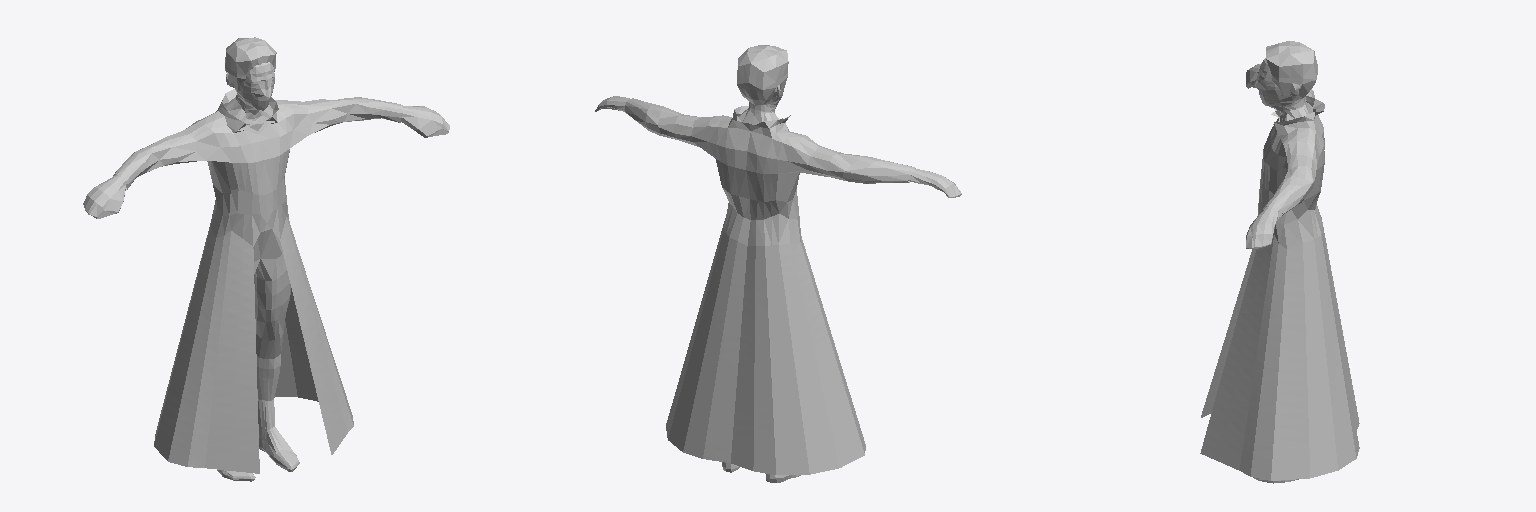
File: dresden-low-poly-4-texturing.obj
3 renders of one model, left to right at view 1: azimuth 30°, elevation 25°; view 2: azimuth 150°, elevation 25°; view 3: azimuth 270°, elevation 25°, orthographic.
Parts seen in each view (by area): view 1: Cube.002_Cube.001; view 2: Cube.002_Cube.001; view 3: Cube.002_Cube.001.
Part boxes in pixels (bbox=[...]): Cube.002_Cube.001: bbox=[83, 37, 449, 481]; Cube.002_Cube.001: bbox=[595, 45, 961, 482]; Cube.002_Cube.001: bbox=[1200, 41, 1359, 483].
Size of the model in its own units: 3.62 by 4.02 by 1.38.